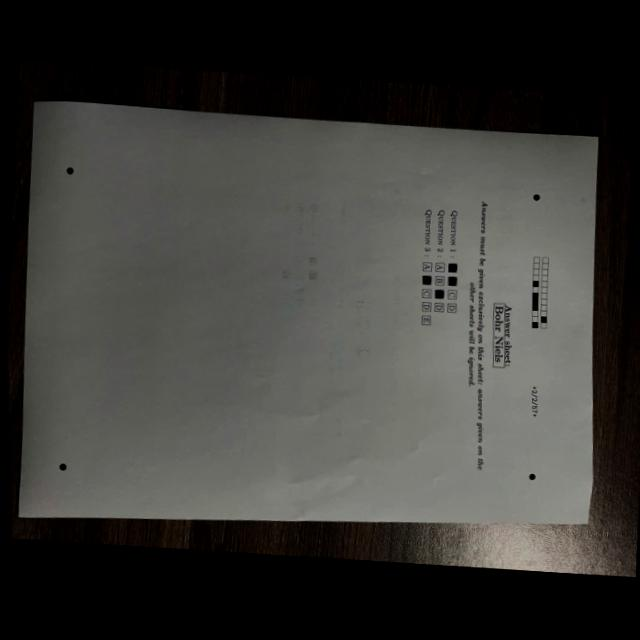Markers: (65, 167, 72, 174), (532, 195, 539, 201), (528, 474, 534, 480), (58, 464, 64, 470)
